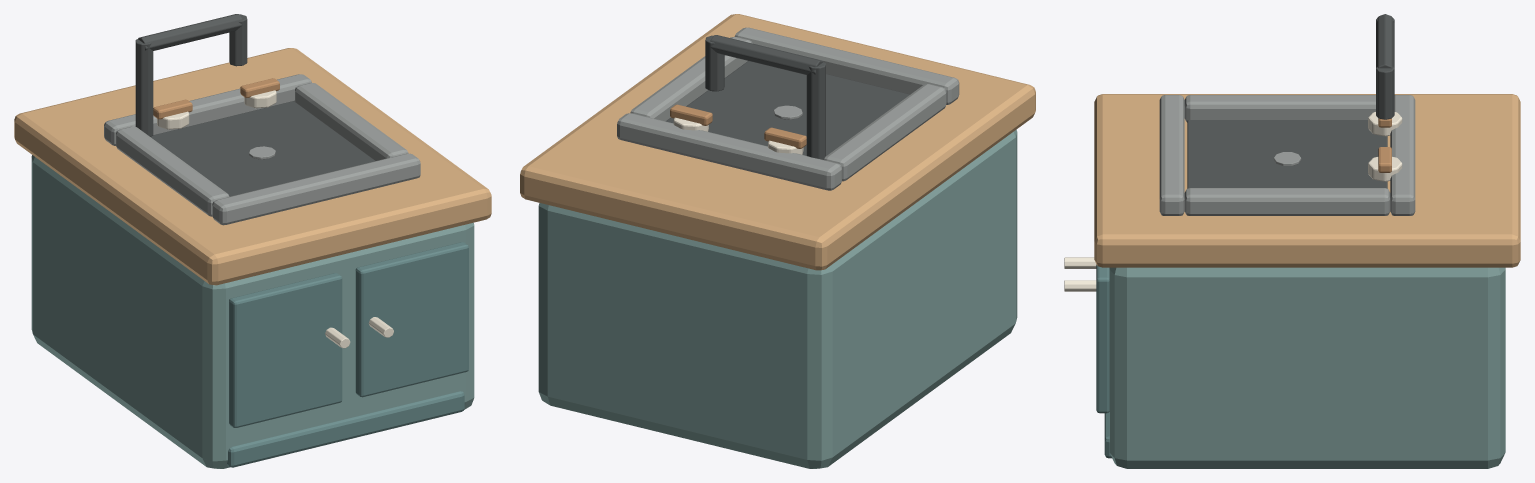
Rendered from sink.glb.
3 views of the same model, side by side, from view 1: azimuth 30°, elevation 25°; view 2: azimuth 150°, elevation 25°; view 3: azimuth 270°, elevation 25° (orthographic). The views are drawn at different scales.
Parts seen in each view (by area): view 1: sinkCabinet, sinkTop, doorL, doorR, basinInset, basinFront, cabinetPlinth, basinLeft, basinRight, basinBack, faucetPost, faucetArm (+3 smaller); view 2: sinkCabinet, sinkTop, basinInset, basinBack, basinFront, basinLeft, basinRight, faucetArm, faucetPost, faucetMouth, tapLeverL, tapLeverR; view 3: sinkCabinet, sinkTop, basinInset, basinRight, basinLeft, basinFront, basinBack, doorR, faucetArm, faucetMouth, tapR.
Part boxes in pixels (x1,y1,x2,y2): sinkCabinet: (31, 155, 474, 468); sinkTop: (14, 48, 491, 285); doorL: (229, 273, 342, 427); doorR: (355, 242, 468, 397); basinInset: (151, 101, 375, 196); basinFront: (212, 153, 420, 225); cabinetPlinth: (227, 391, 464, 467); basinLeft: (116, 126, 229, 216); basinRight: (295, 83, 408, 160); basinBack: (104, 74, 311, 145); faucetPost: (135, 39, 153, 136); faucetArm: (138, 14, 242, 50); sinkCabinet: (538, 129, 1017, 468); sinkTop: (520, 14, 1035, 270); basinInset: (666, 61, 909, 155); basinBack: (617, 113, 842, 190); basinFront: (734, 27, 959, 104); basinLeft: (824, 84, 946, 181); basinRight: (630, 37, 752, 121); faucetArm: (710, 35, 822, 74); faucetPost: (806, 62, 825, 159); faucetMouth: (705, 35, 724, 91); tapLeverL: (764, 127, 806, 148); tapLeverR: (670, 104, 712, 125); sinkCabinet: (1109, 267, 1505, 468); sinkTop: (1094, 94, 1520, 267); basinInset: (1187, 120, 1387, 188); basinRight: (1184, 188, 1390, 215); basinLeft: (1184, 95, 1375, 122); basinFront: (1159, 95, 1184, 215); basinBack: (1390, 95, 1415, 215); doorR: (1096, 264, 1109, 413); faucetArm: (1376, 14, 1394, 72); faucetMouth: (1376, 66, 1394, 119); tapR: (1368, 156, 1402, 181).
Size of the model in its own units: 1.3 by 1.45 by 1.7.
